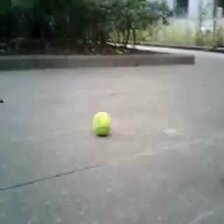tennis: (93, 112, 112, 132)
